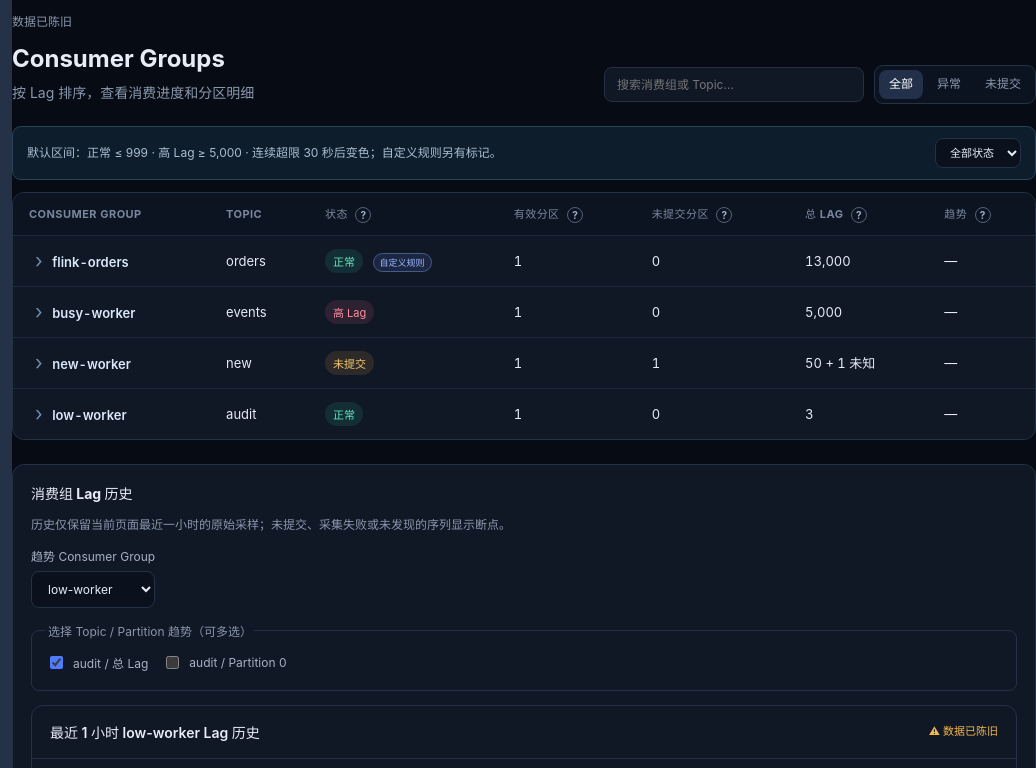
Test: sorts by numeric lag descending and filters by group, topic and evaluated status
Type "ORDERS" into the search field named "搜索 Consumer Group 或 Topic".
click(734, 84); type("ORDERS")  # box left=604, top=67, right=864, bottom=102
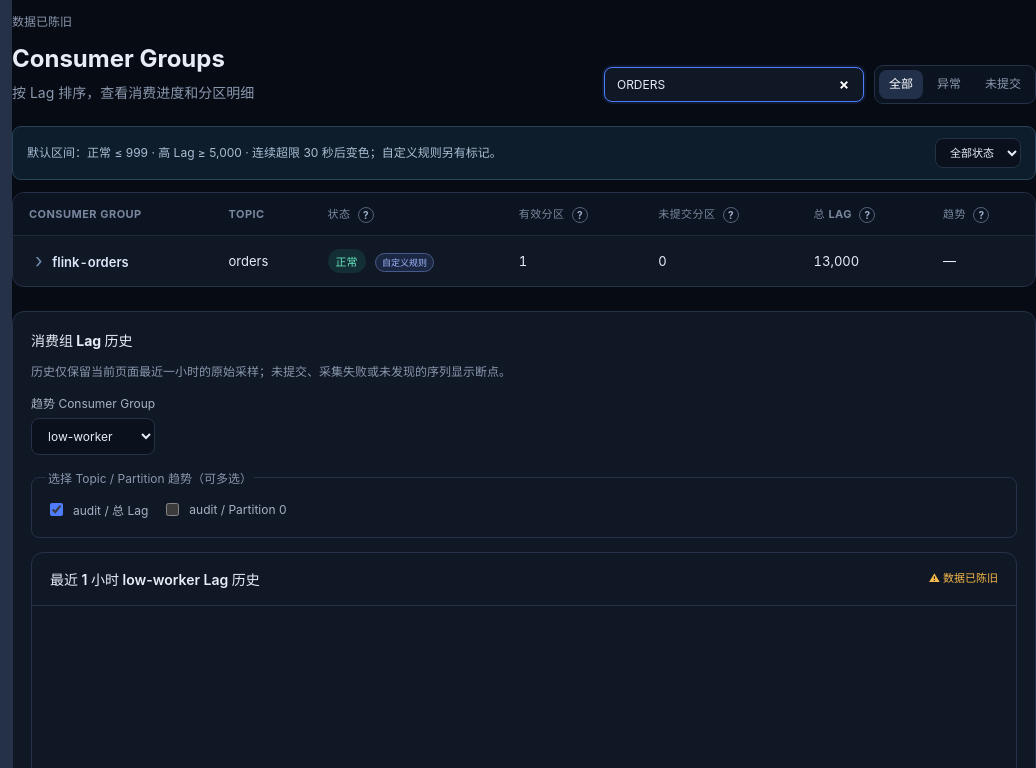
Result: the number of rows is 2 at left=13, top=193, right=1035, bottom=235; left=13, top=235, right=1035, bottom=286
Clear the search field at (734,84), box left=604, top=67, right=864, bottom=102
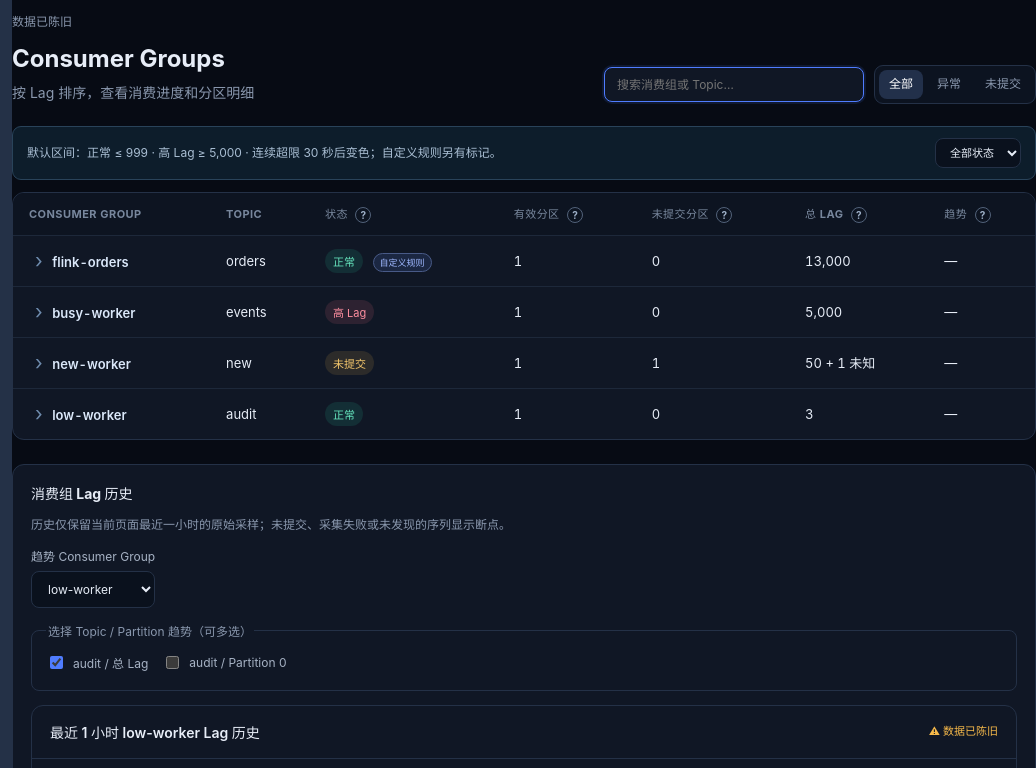
Select "高 Lag" in the dropdown named "状态筛选" at (978,153), box left=935, top=138, right=1021, bottom=168
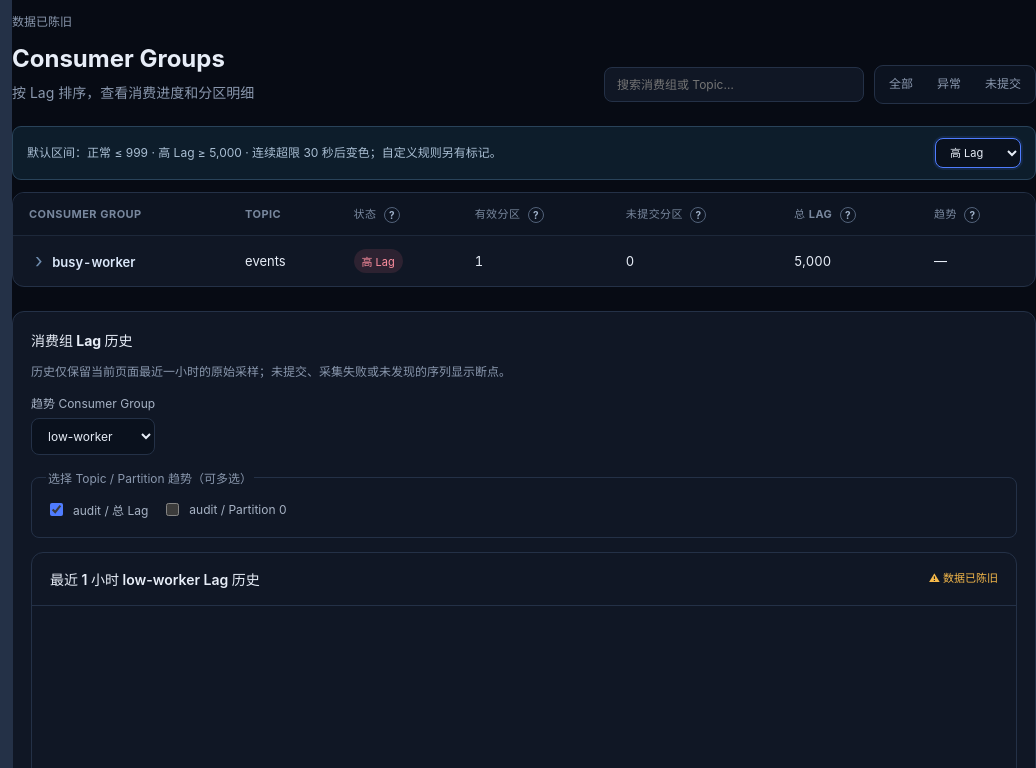
Result: the text "busy-worker" is shown at left=52, top=254, right=135, bottom=270
Result: the text "flink-orders" is gone
Select "未提交" in the dropdown named "状态筛选" at (978,153), box left=935, top=138, right=1021, bottom=168
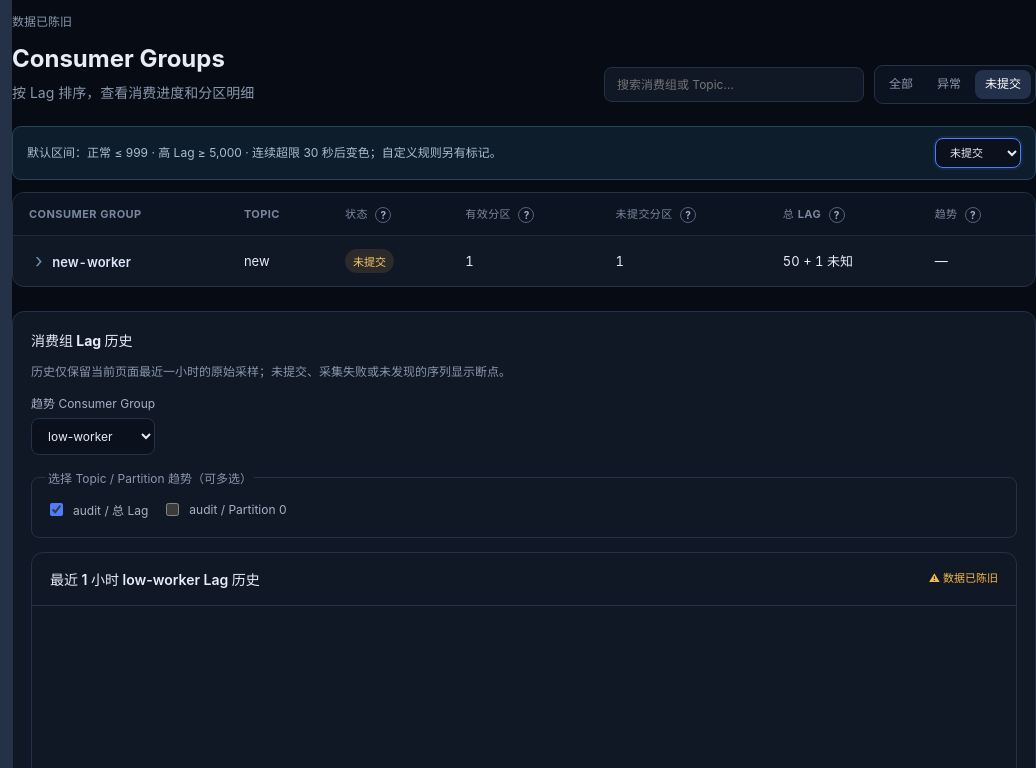
Result: the text "new-worker" is shown at left=52, top=254, right=131, bottom=270
